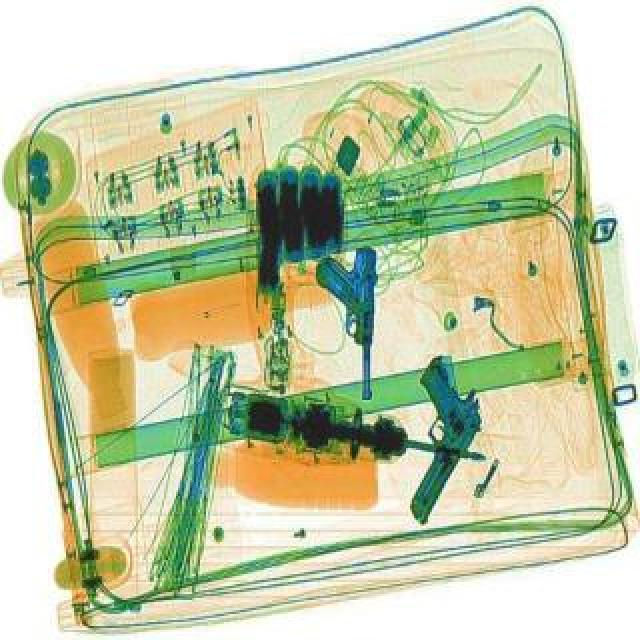gun: (356, 350, 504, 526), (312, 244, 380, 398)
